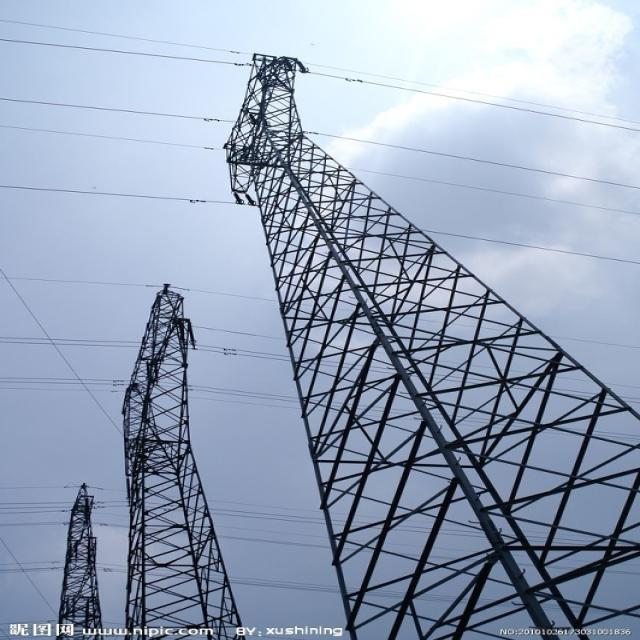non-critical vegetation: (206, 40, 634, 638), (100, 282, 272, 630), (44, 480, 104, 626)
